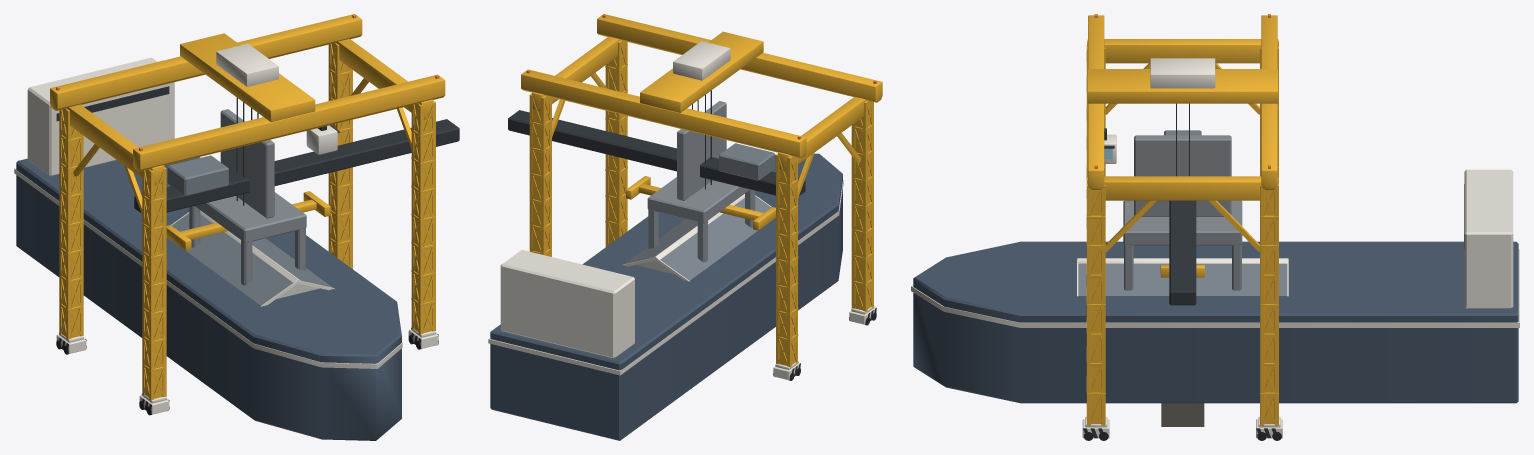
The model's file is Kit.fbx.
The picture shows the model from 3 angles, left to right: view 1: azimuth 30°, elevation 25°; view 2: azimuth 150°, elevation 25°; view 3: azimuth 270°, elevation 25°; orthographic projection. The views are drawn at different scales.
Parts seen in each view (by area): view 1: Ship_Hull, Crane_Girders, Crane_Legs, Crane_Bands, StsCrane_Frame, Ship_Bridge, StsCrane_Boom, Shed_Roof, Crane_Trolley, Ship_Stripe, StsCrane_House, Crane_House (+6 smaller); view 2: Ship_Hull, Crane_Girders, Crane_Legs, Ship_Bridge, Crane_Bands, StsCrane_Frame, StsCrane_Boom, Shed_Roof, Crane_Trolley, Ship_Stripe, StsCrane_House, Crane_House (+4 smaller); view 3: Ship_Hull, Crane_Girders, StsCrane_Frame, Crane_Legs, Ship_Bridge, Crane_Trolley, Shed_Roof, Ship_Stripe, Crane_Bands, StsCrane_Boom, Crane_House, Crane_Knees (+3 smaller).
Boxes of the visible parts, bbox=[...] form: Ship_Hull: bbox=[16, 157, 401, 440]; Crane_Girders: bbox=[50, 14, 445, 185]; Crane_Legs: bbox=[59, 43, 435, 400]; Crane_Bands: bbox=[59, 44, 435, 397]; StsCrane_Frame: bbox=[189, 109, 306, 285]; Ship_Bridge: bbox=[27, 57, 174, 176]; StsCrane_Boom: bbox=[134, 119, 459, 212]; Shed_Roof: bbox=[171, 213, 332, 305]; Crane_Trolley: bbox=[180, 33, 315, 122]; Ship_Stripe: bbox=[14, 168, 402, 368]; StsCrane_House: bbox=[167, 155, 228, 196]; Crane_House: bbox=[216, 43, 278, 86]; Ship_Hull: bbox=[490, 153, 842, 440]; Crane_Girders: bbox=[521, 14, 882, 170]; Crane_Legs: bbox=[529, 40, 873, 367]; Ship_Bridge: bbox=[500, 250, 634, 358]; Crane_Bands: bbox=[529, 41, 873, 364]; StsCrane_Frame: bbox=[647, 101, 755, 262]; StsCrane_Boom: bbox=[508, 110, 805, 195]; Shed_Roof: bbox=[624, 196, 770, 280]; Crane_Trolley: bbox=[640, 31, 763, 112]; Ship_Stripe: bbox=[488, 179, 843, 375]; StsCrane_House: bbox=[719, 143, 774, 180]; Crane_House: bbox=[673, 41, 730, 80]; Ship_Hull: bbox=[913, 241, 1518, 403]; Crane_Girders: bbox=[1087, 15, 1278, 200]; StsCrane_Frame: bbox=[1123, 135, 1242, 290]; Crane_Legs: bbox=[1087, 40, 1278, 425]; Ship_Bridge: bbox=[1464, 169, 1513, 308]; Crane_Trolley: bbox=[1087, 69, 1278, 103]; Shed_Roof: bbox=[1078, 263, 1287, 295]; Ship_Stripe: bbox=[911, 249, 1519, 327]; Crane_Bands: bbox=[1086, 45, 1278, 422]; StsCrane_Boom: bbox=[1169, 200, 1196, 305]; Crane_House: bbox=[1150, 58, 1215, 88]; Crane_Knees: bbox=[1105, 63, 1259, 251].
Size of the model in its own units: 80 by 73.4 by 112.
